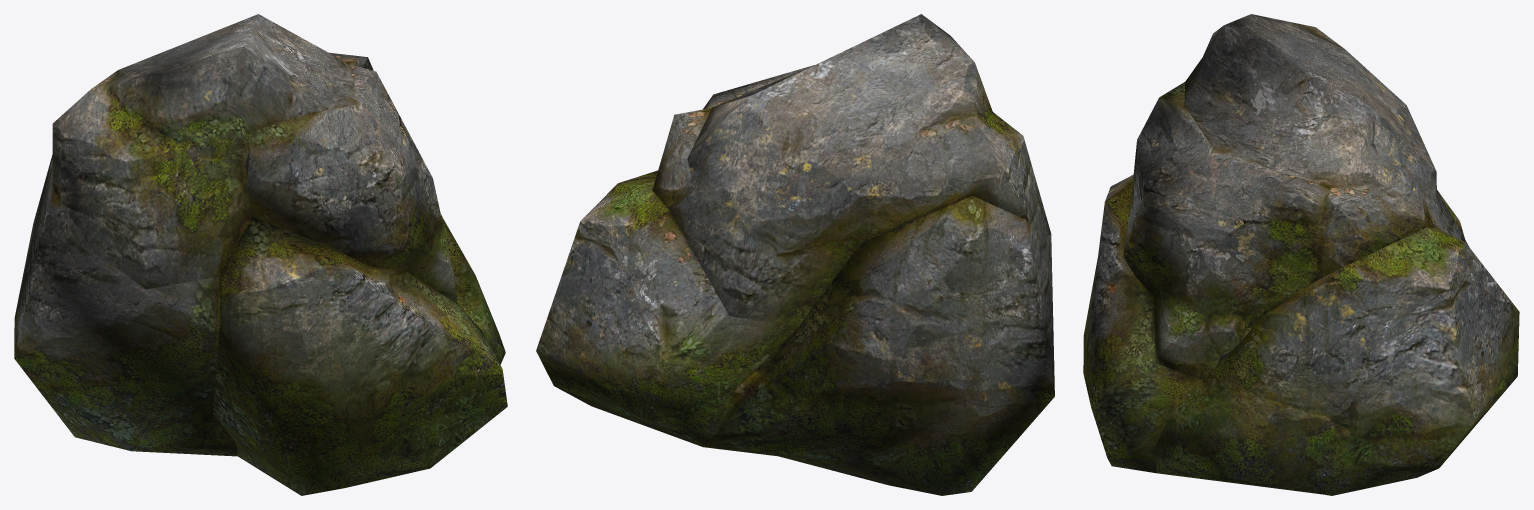
File: Rock05_lod1.glb
3 renders of one model, left to right at view 1: azimuth 30°, elevation 25°; view 2: azimuth 150°, elevation 25°; view 3: azimuth 270°, elevation 25°, orthographic. The views are drawn at different scales.
Parts seen in each view (by area): view 1: common_rock05_lod1; view 2: common_rock05_lod1; view 3: common_rock05_lod1.
Boxes of the visible parts, <box> form: common_rock05_lod1: <box>14,14,507,495</box>; common_rock05_lod1: <box>536,14,1054,495</box>; common_rock05_lod1: <box>1083,14,1519,495</box>.
Bounding box in the file's own units: 3.79 × 3.45 × 3.44.
1 material, 1 textured.
